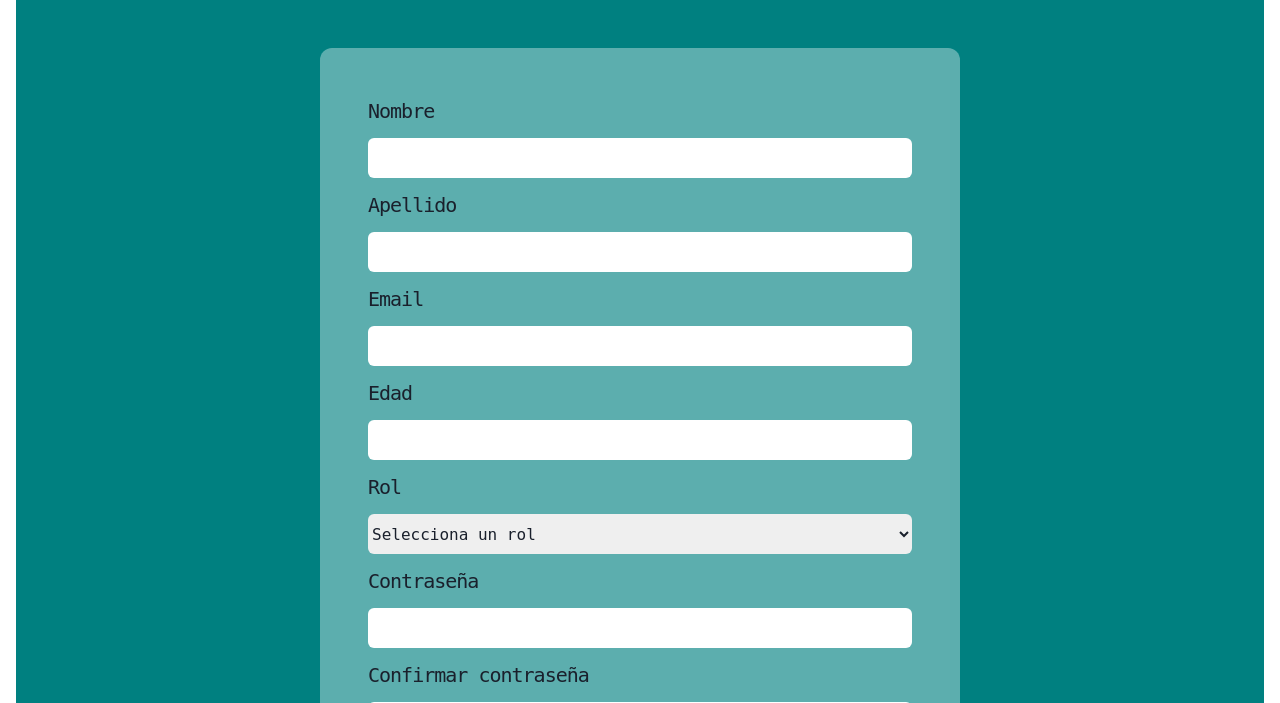
Test case: register form › should show the password field error message
Click the password field with id "inputPassword" at {"x": 640, "y": 628}, box [368,608,912,648]
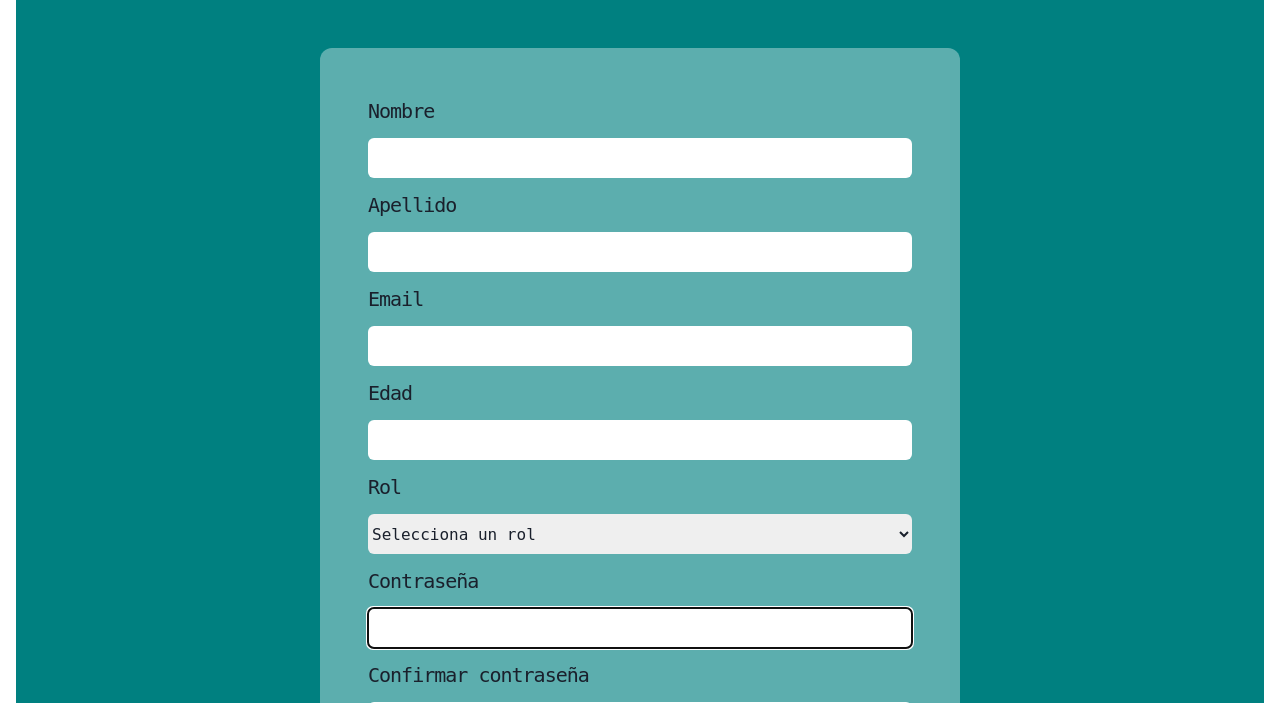
Click the label with id "nameLabel" at {"x": 401, "y": 111}, box [368,99,434,123]
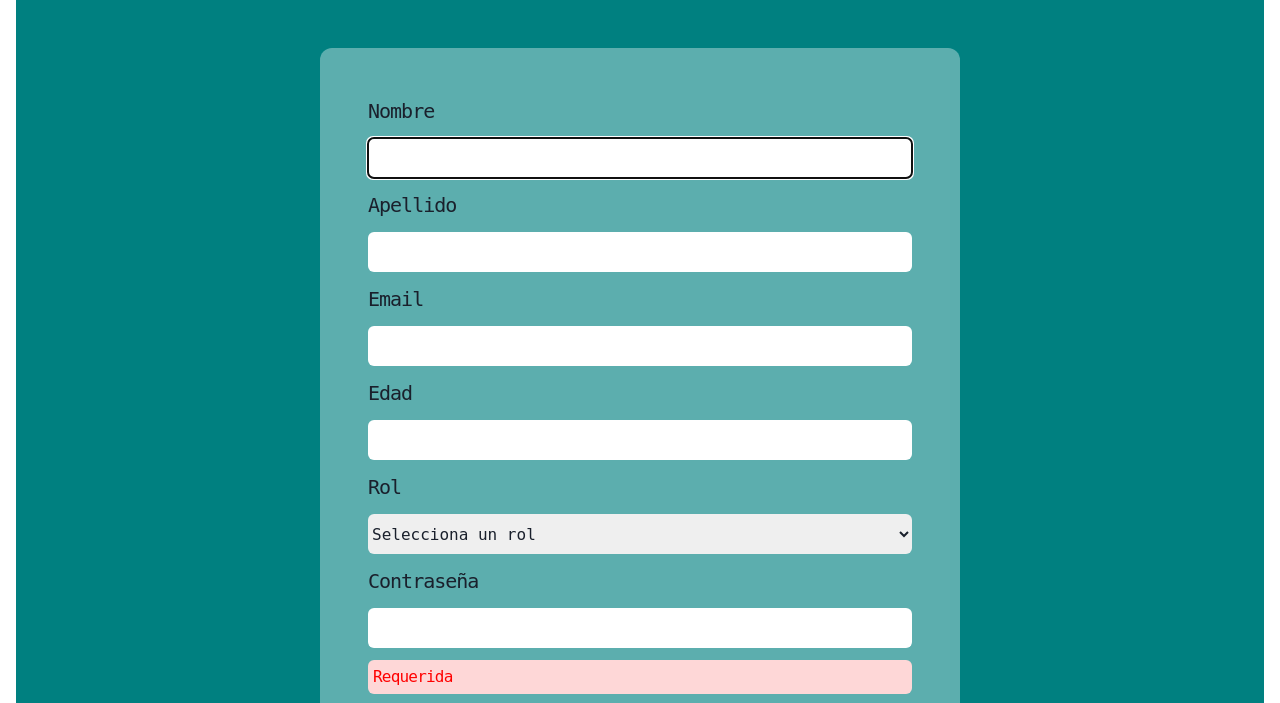
Check: the text "Requerida" is shown, box [368,660,912,694]
Type "a" into the password field with id "inputPassword" at {"x": 640, "y": 628}, box [368,608,912,648]
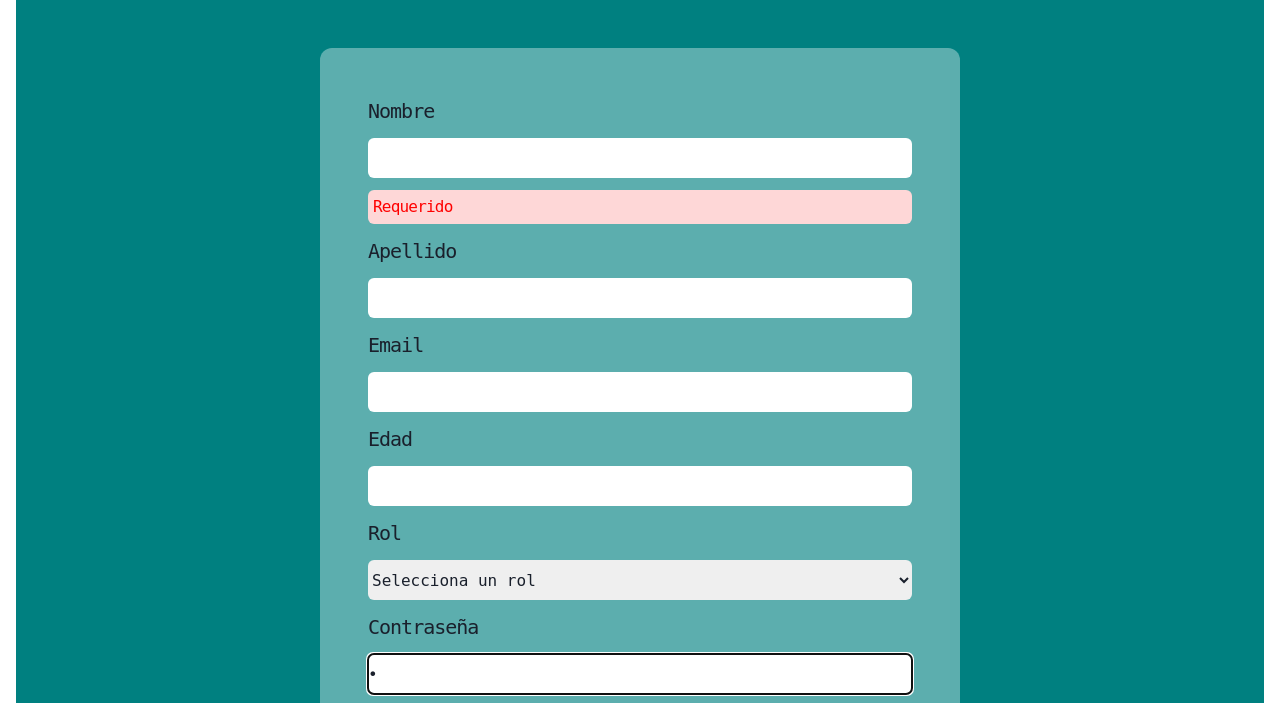
Check: the text "Requerido" is shown, box [368,190,912,224]
